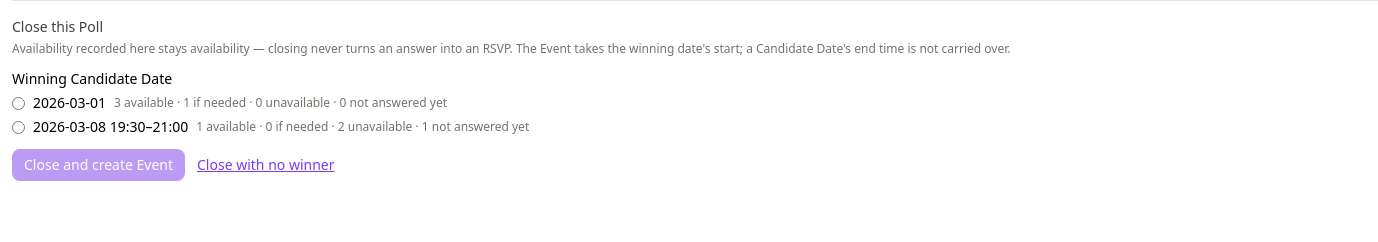
ClosePollPanel › names only the start, and says the end time is dropped, for a Candidate Date with a window
This screenshot has width=1378, height=242.
Click the radio button labelled "2026-03-08 19:30–21:00": [18, 127] box [12,120,25,134]
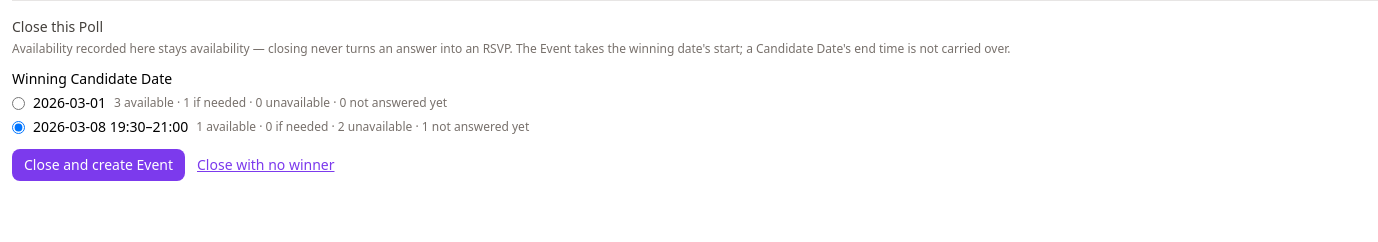
Click the button "Close and create Event": [98, 165] box [12,149,185,181]
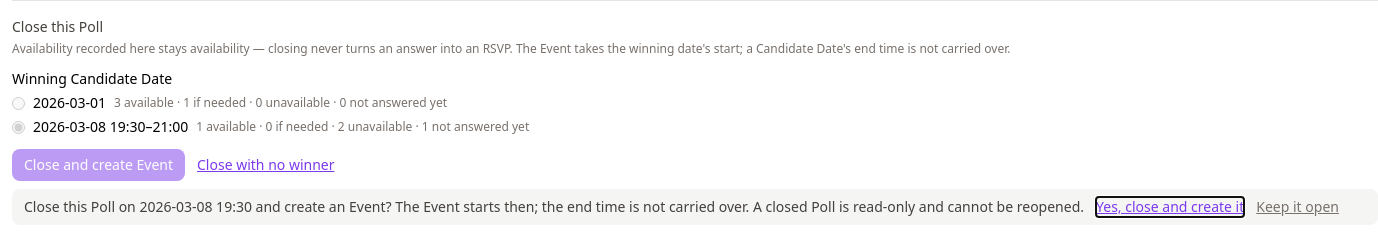
Expected: the message shows "Close this Poll on 2026-03-08 19:30 and create an Event? The Event starts then; the end time is not carried over.", [24,197,1084,216]
